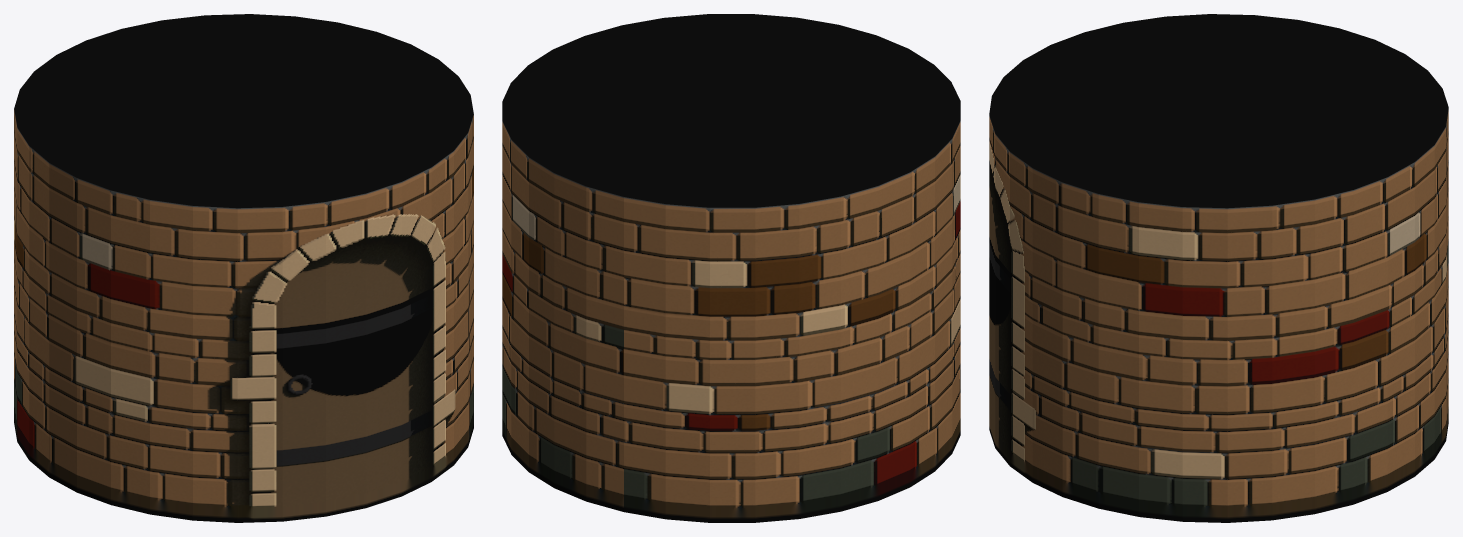
The model's file is base-section-with-doorway-low-detail.glb.
The picture shows the model from 3 angles, left to right: view 1: azimuth 30°, elevation 25°; view 2: azimuth 150°, elevation 25°; view 3: azimuth 270°, elevation 25°; orthographic projection.
Visible parts, largest first — view 1: Cylinder; view 2: Cylinder; view 3: Cylinder.
Boxes of the visible parts, <box> form: Cylinder: <box>14,14,473,522</box>; Cylinder: <box>502,14,960,522</box>; Cylinder: <box>989,14,1448,522</box>.
Bounding box in the file's own units: 2.9 × 2.19 × 2.9.
1 material, 1 textured.
